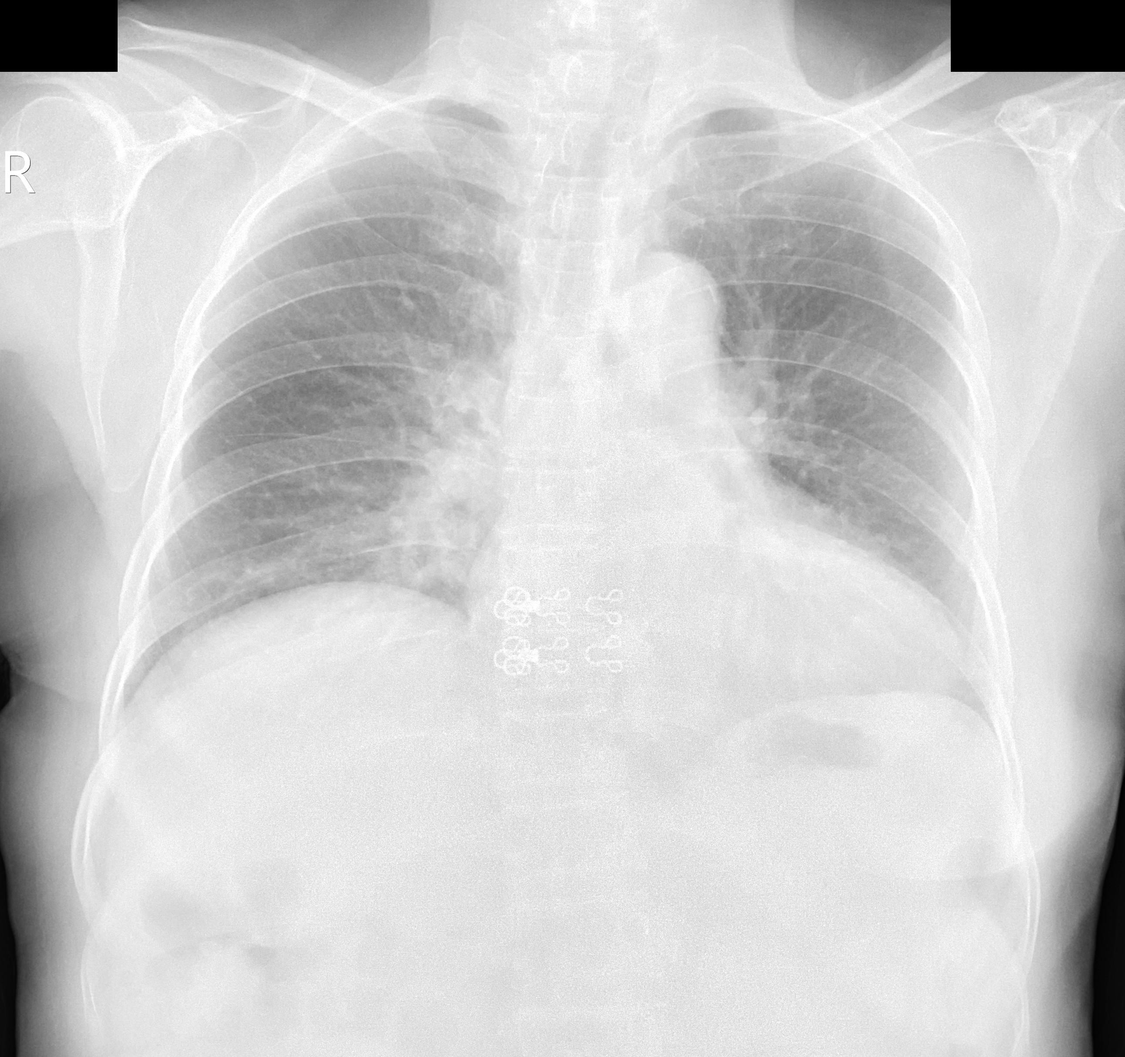Aortic enlargement: (597, 252, 729, 376)
Cardiomegaly: (469, 540, 961, 710)
Pleural thickening: (394, 78, 486, 115)
